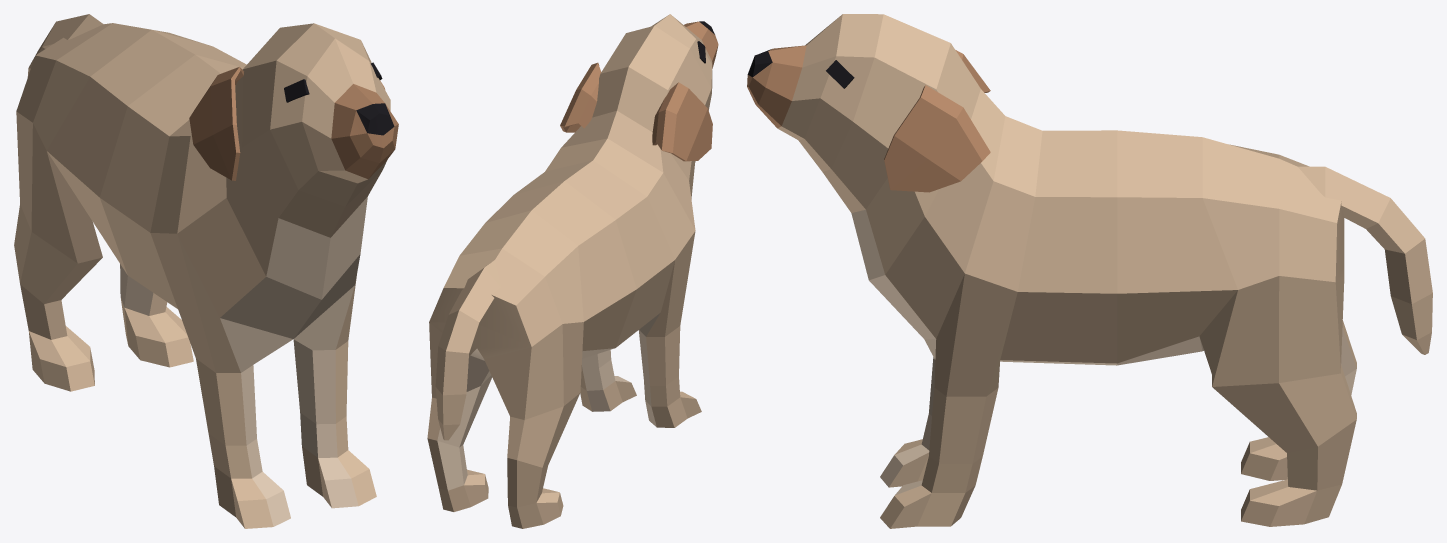
The model's file is perro.glb.
3 renders of one model, left to right at view 1: azimuth 30°, elevation 25°; view 2: azimuth 150°, elevation 25°; view 3: azimuth 270°, elevation 25°, orthographic. The views are drawn at different scales.
Visible parts, largest first — view 1: Geo_Puppy; view 2: Geo_Puppy; view 3: Geo_Puppy.
Part boxes in pixels (<box>): Geo_Puppy: <box>14,14,398,528</box>; Geo_Puppy: <box>427,14,718,528</box>; Geo_Puppy: <box>747,14,1432,528</box>.
Bounding box in the file's own units: 0.246 × 0.605 × 0.778.
1 material, 1 textured.
